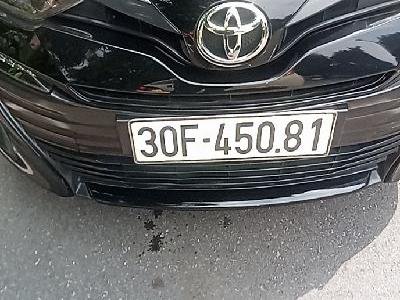number: (130, 111, 332, 162)
